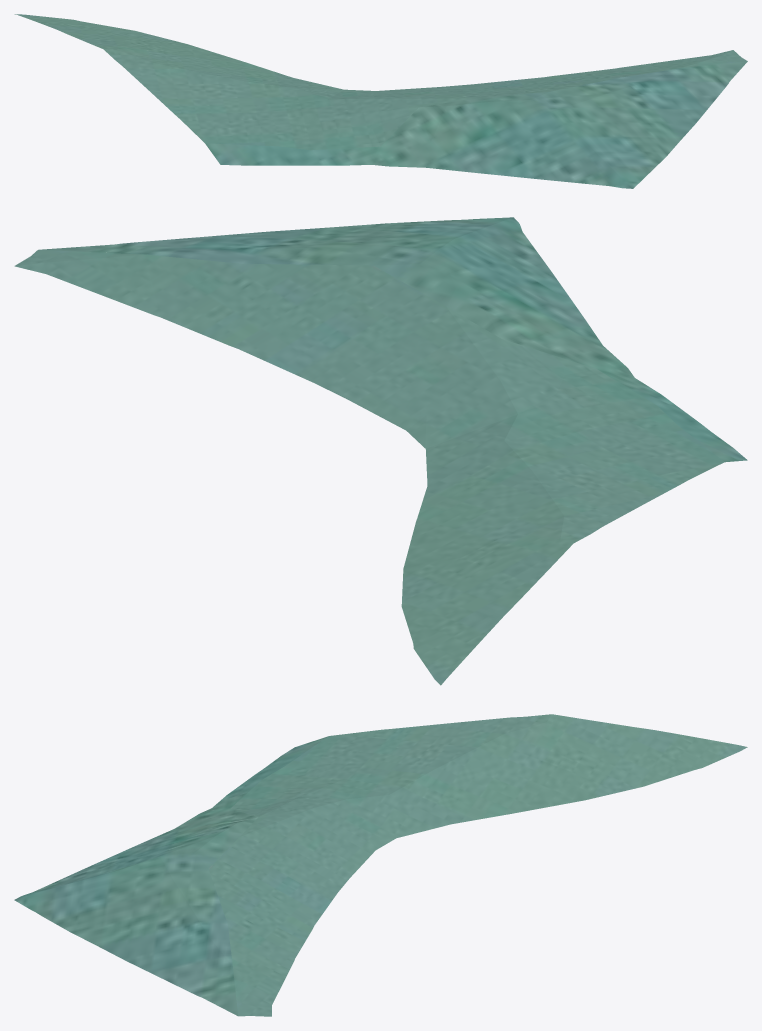
Rendered from Tile_+008_+007_L19_00340.glb.
3 views of the same model, one above another, from view 1: azimuth 30°, elevation 25°; view 2: azimuth 150°, elevation 25°; view 3: azimuth 270°, elevation 25° (orthographic). The views are drawn at different scales.
Parts seen in each view (by area): view 1: rtc; view 2: rtc; view 3: rtc.
Boxes of the visible parts, x1,y1,x2,y2 form: rtc: [14, 14, 747, 188]; rtc: [14, 217, 747, 685]; rtc: [14, 714, 747, 1016].
Size of the model in its own units: 16.54 by 1.06 by 19.02.
Materials: 1 (1 with a texture image).
